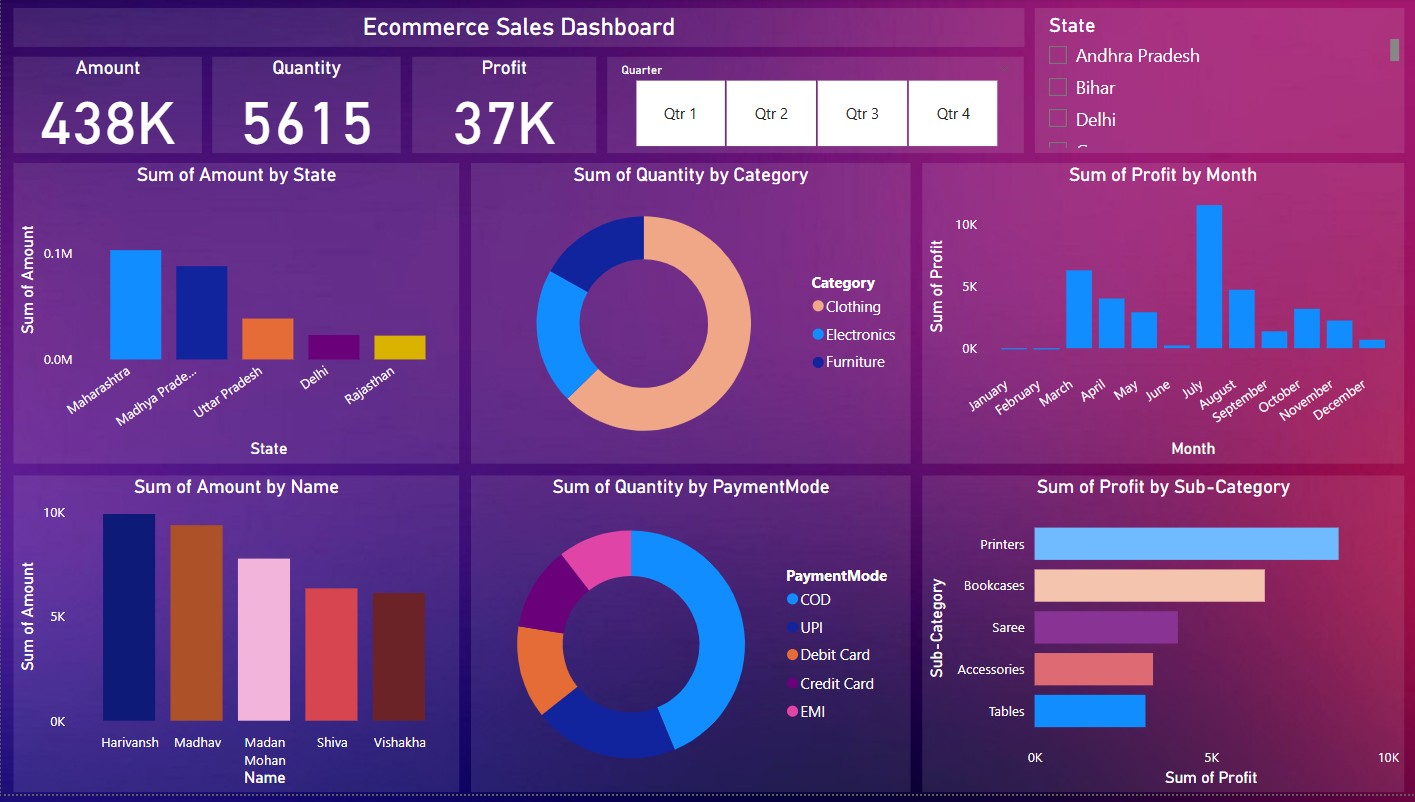

The page's visual inventory and layout, read from the dashboard file:
{"tool":"powerbi","page":{"name":"Sales Dashboard","canvas":[1280,720],"ordinal":0},"visuals":[{"type":"card","title":"Amount","fields":{"Values":["Details.Amount"]},"box":[10.9,53.3,170.8,87.4],"z":0},{"type":"card","title":"Quantity","fields":{"Values":["Details.Quantity"]},"box":[191.3,53.3,170.8,87.4],"z":1000},{"type":"card","title":"Profit","fields":{"Values":["Details.Profit"]},"box":[371.6,53.3,166.7,87.4],"z":2000},{"type":"donutChart","fields":{"Y":["Details.Quantity"],"Category":["Details.Category"]},"box":[425.4,149.6,397.9,271.7],"z":3000},{"type":"donutChart","fields":{"Y":["Details.Quantity"],"Category":["Details.PaymentMode"]},"box":[425.4,432.2,397.9,286.8],"z":4000},{"type":"columnChart","fields":{"Category":["Orders.Name"],"Y":["Details.Amount"]},"box":[11,432.2,403.4,286.8],"z":5000},{"type":"columnChart","fields":{"Category":["Orders.State"],"Y":["Details.Amount"]},"box":[11,149.6,403.4,271.7],"z":6000},{"type":"clusteredBarChart","fields":{"Y":["Details.Profit"],"Category":["Details.Sub-Category"]},"box":[832.9,432.2,436.4,286.8],"z":7000},{"type":"clusteredColumnChart","fields":{"Category":["Orders.Date.Variation.Date Hierarchy.Month"],"Y":["Details.Profit"]},"box":[833.5,148.9,435.9,271.9],"z":8000},{"type":"slicer","fields":{"Values":["Orders.Date.Variation.Date Hierarchy.Quarter"]},"box":[547.9,53.3,377.1,87.4],"z":9000},{"type":"slicer","fields":{"Values":["Orders.State"]},"box":[934.6,9.6,334.8,131.2],"z":10000},{"type":"textbox","box":[10.9,9.6,914.1,35.5],"z":10001}]}

Visuals, with their boxes in screenshot pixels (x1, y1, x2, y2), scaled from the page's 1280x720 canvas onto the 1415x802 screenshot:
"Amount" card: [12, 59, 201, 157]
"Quantity" card: [211, 59, 400, 157]
"Profit" card: [411, 59, 595, 157]
donutChart - Details.Quantity x Details.Category: [470, 167, 910, 469]
donutChart - Details.Quantity x Details.PaymentMode: [470, 481, 910, 801]
columnChart - Orders.Name x Details.Amount: [12, 481, 458, 801]
columnChart - Orders.State x Details.Amount: [12, 167, 458, 469]
clusteredBarChart - Details.Profit x Details.Sub-Category: [921, 481, 1403, 801]
clusteredColumnChart - Orders.Date.Variation.Date Hierarchy.Month x Details.Profit: [921, 166, 1403, 469]
slicer - Orders.Date.Variation.Date Hierarchy.Quarter: [606, 59, 1023, 157]
slicer - Orders.State: [1033, 11, 1403, 157]
textbox: [12, 11, 1023, 50]
